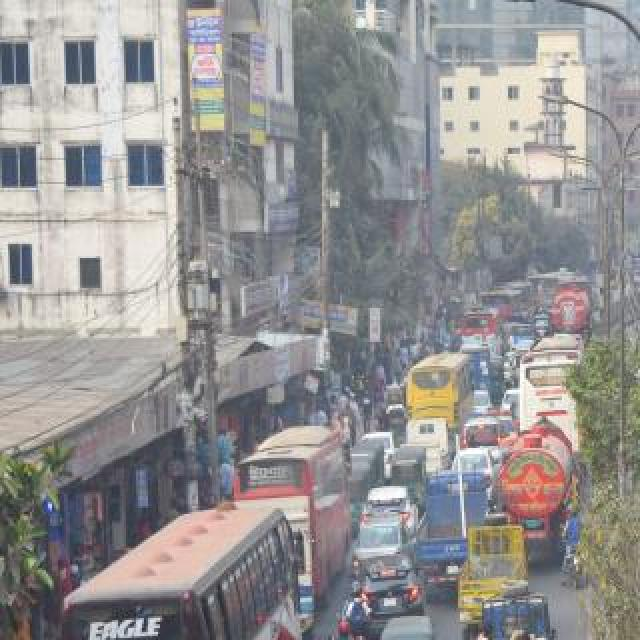bus: (58, 500, 306, 640), (233, 422, 351, 604), (522, 335, 590, 435), (405, 349, 475, 437), (461, 306, 501, 358), (482, 284, 524, 320), (490, 281, 536, 311), (540, 275, 558, 301)
car: (354, 553, 426, 629), (356, 514, 416, 570), (452, 446, 498, 506), (362, 483, 416, 529), (359, 431, 399, 481), (502, 388, 520, 418), (475, 386, 493, 416), (531, 314, 553, 338), (509, 324, 535, 342), (630, 328, 640, 356)
motorbike: (562, 498, 590, 592), (336, 578, 376, 640)
truck: (498, 418, 578, 550), (551, 281, 591, 345)
van: (417, 469, 487, 579), (464, 521, 526, 633), (472, 588, 558, 640), (406, 418, 452, 474), (462, 341, 492, 393), (464, 411, 502, 451)
